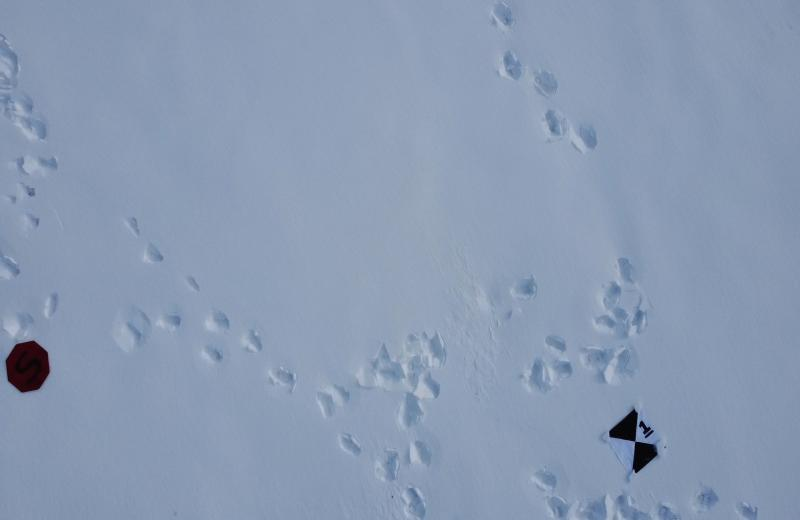Octagon: (5, 339, 52, 395)
